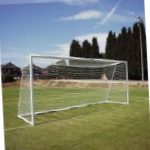goals: (18, 54, 130, 124)
